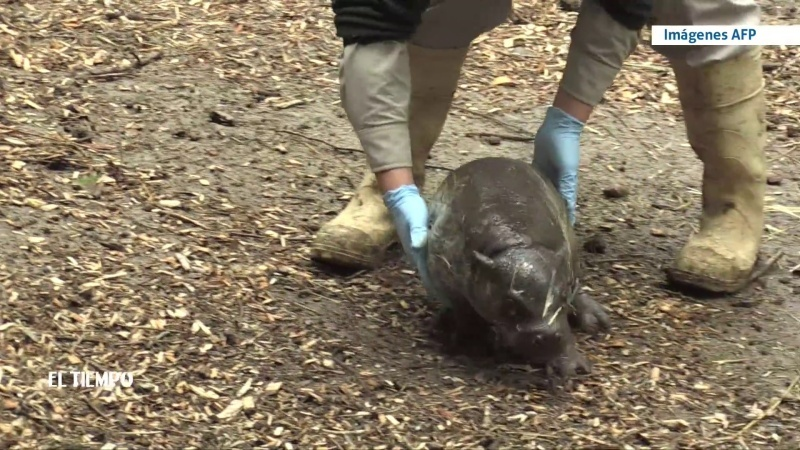hipopotamo: (407, 149, 633, 391)
